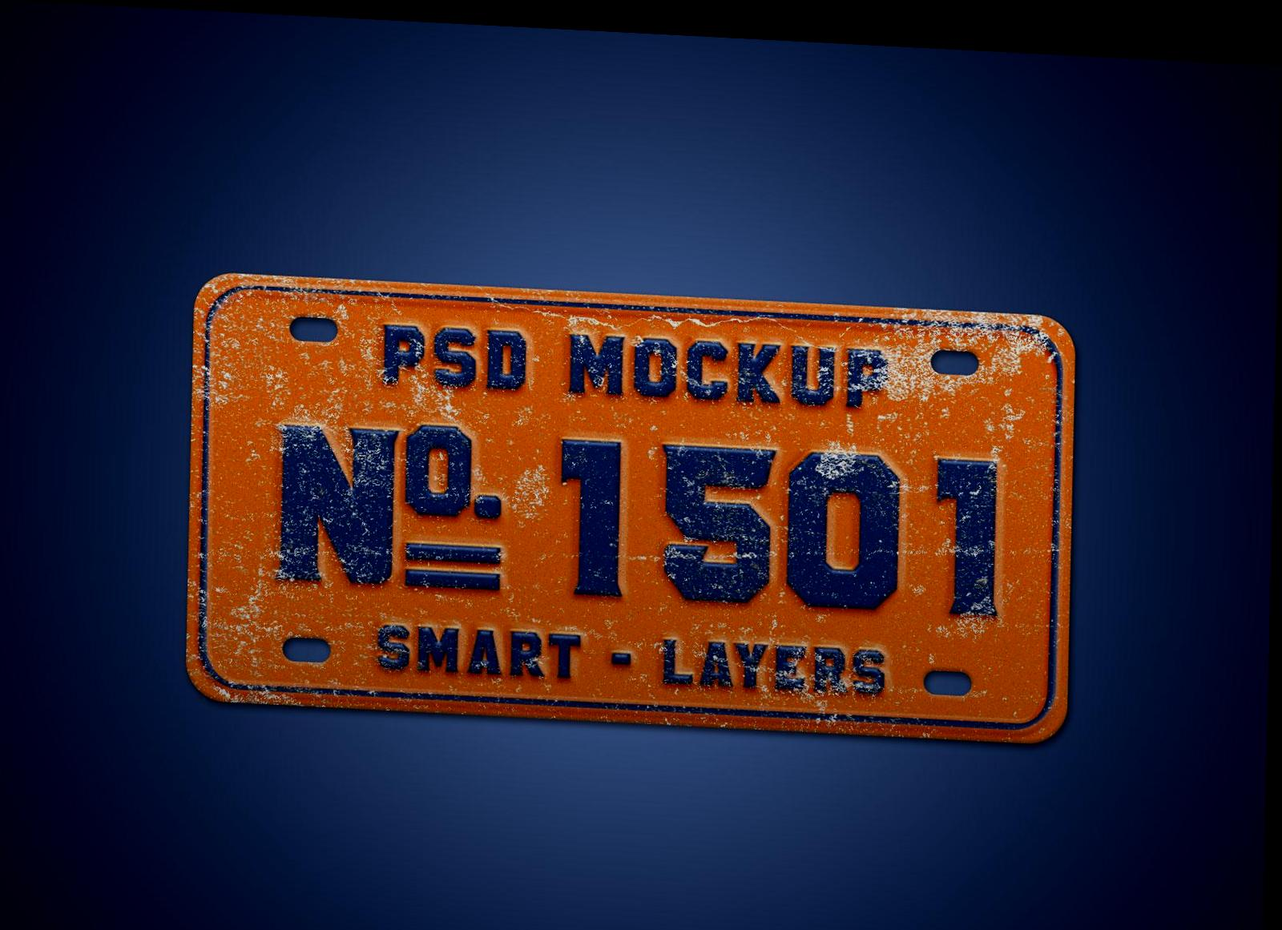License_Plate: (190, 264, 1078, 745)
